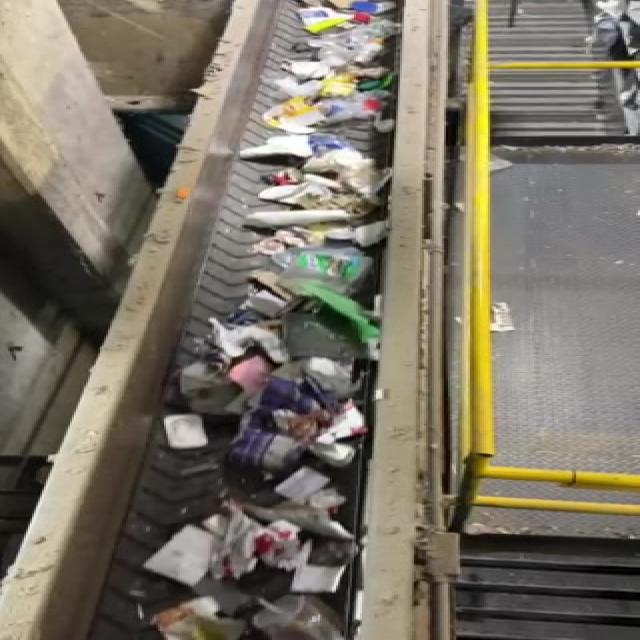pp: (160, 519, 239, 597), (287, 537, 356, 600), (158, 415, 226, 458), (262, 603, 341, 640)
ps: (258, 383, 356, 478)
